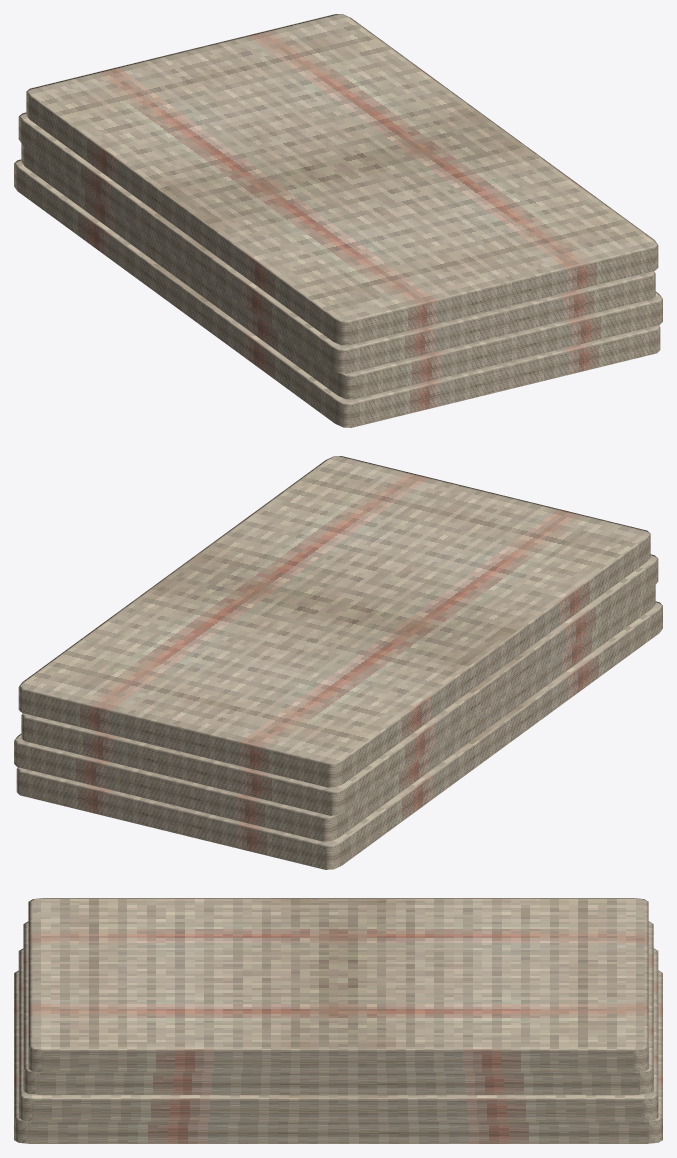
Rendered from folding-stretcher.glb.
3 renders of one model, top to bottom at view 1: azimuth 30°, elevation 25°; view 2: azimuth 150°, elevation 25°; view 3: azimuth 270°, elevation 25°, orthographic. The views are drawn at different scales.
Parts seen in each view (by area): view 1: fold (×4); view 2: fold (×4); view 3: fold (×4).
Boxes of the visible parts, box(x1,y1,x2,y2) form: fold (×4): box(14, 14, 662, 427); fold (×4): box(14, 456, 662, 869); fold (×4): box(14, 898, 662, 1143).
Size of the model in its own units: 0.5417 by 0.1584 by 0.96.
Materials: 1 (1 with a texture image).
